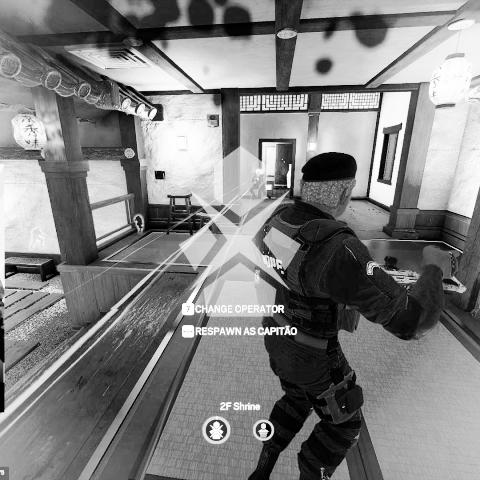Character: (248, 150, 468, 480), (248, 168, 267, 200)
Head: (300, 151, 358, 219), (255, 168, 262, 176)
